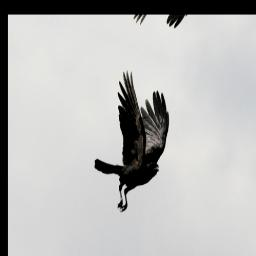Crow: (86, 64, 178, 227)
